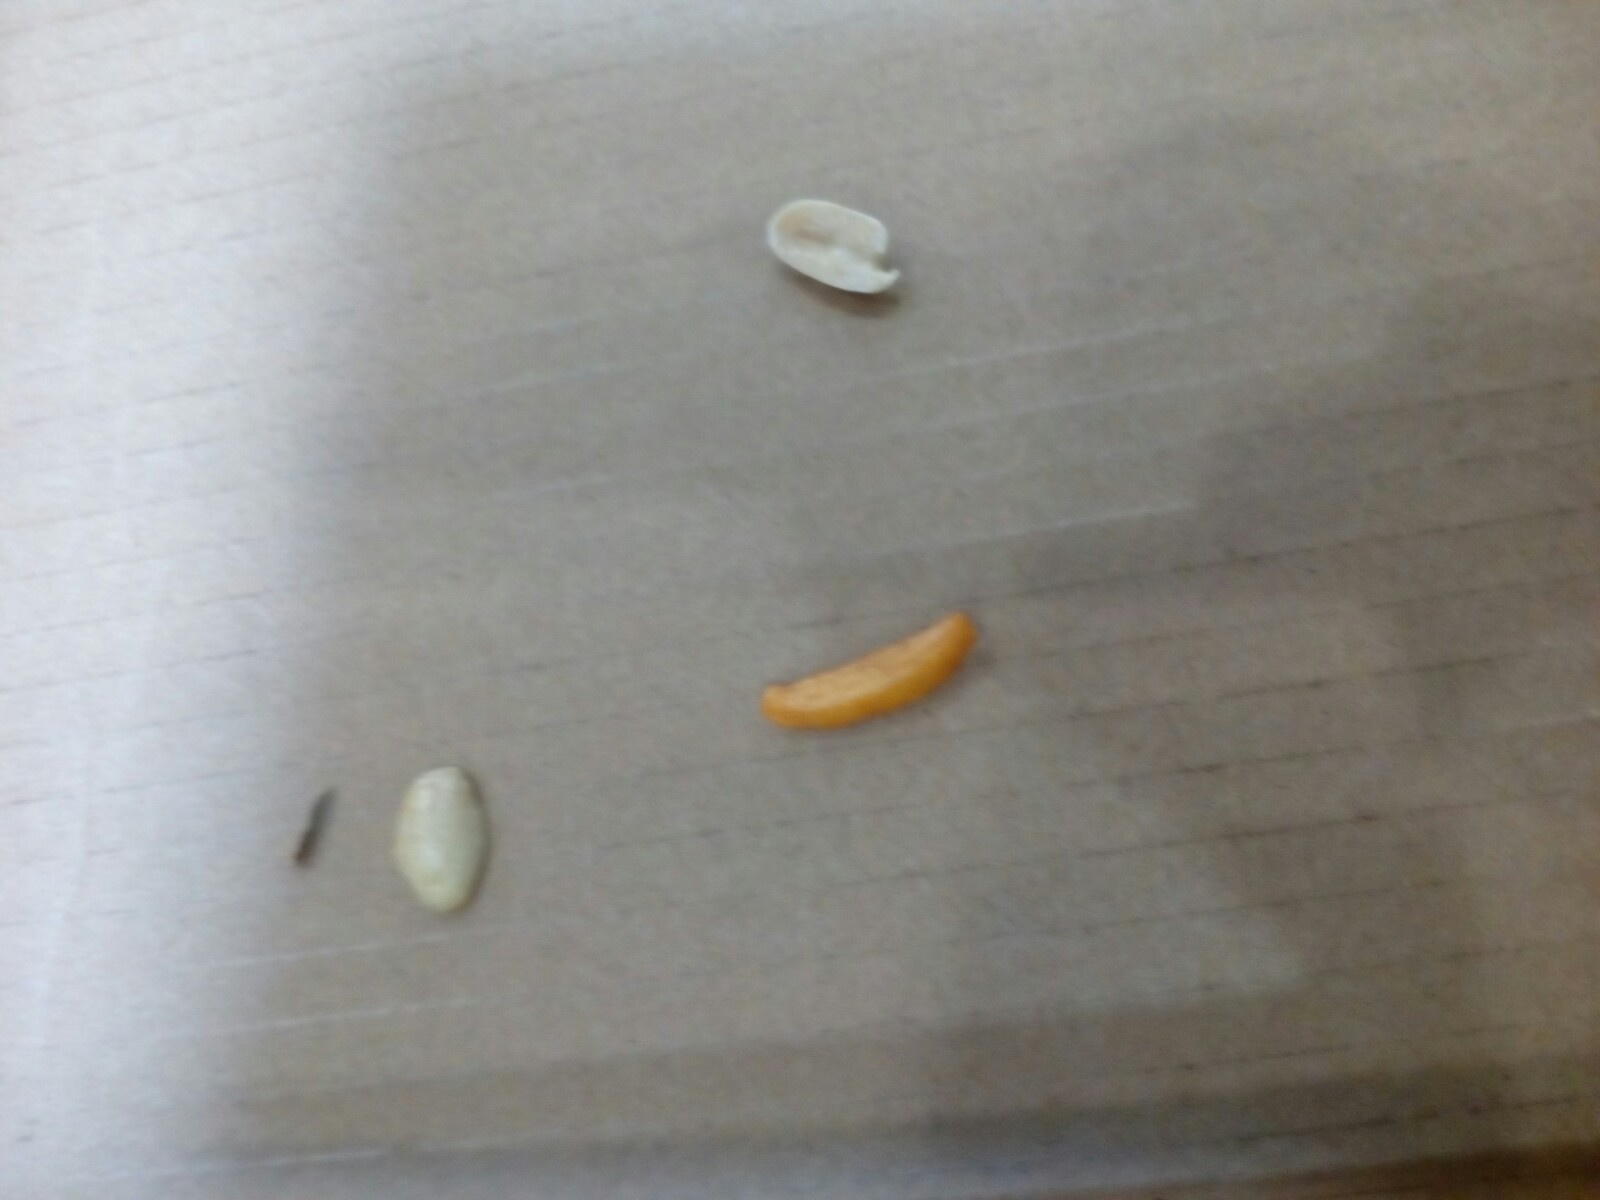peanut: (758, 182, 921, 308), (396, 747, 503, 932)
